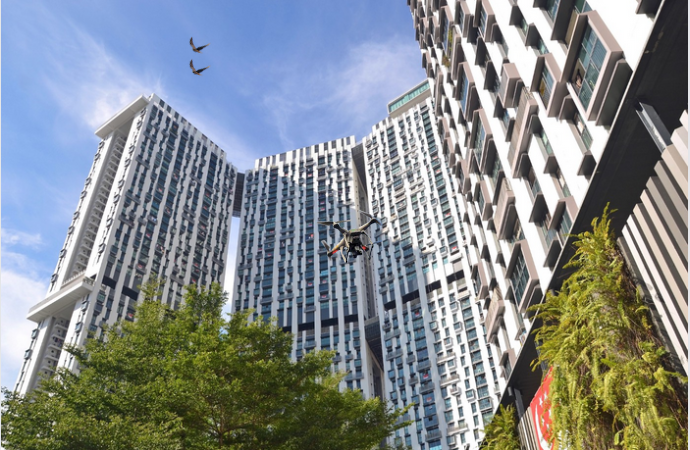drone_other: (315, 209, 384, 264)
